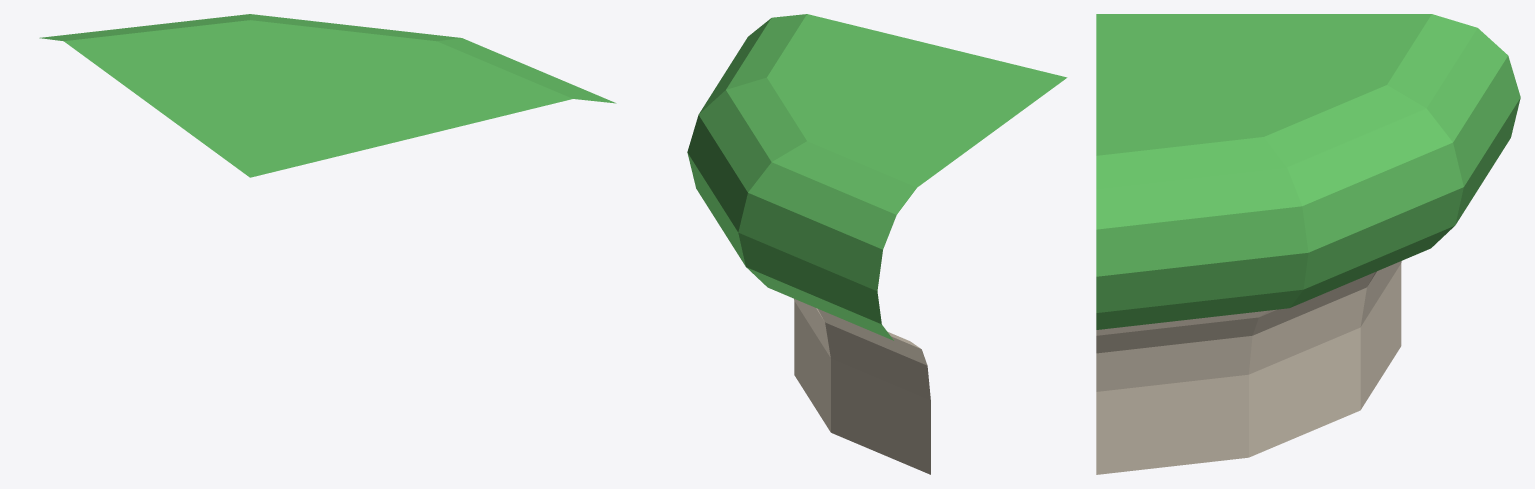
File: Escarpment_Terrain_Corner_Outer_2x2_Top.glb
3 views of the same model, side by side, from view 1: azimuth 30°, elevation 25°; view 2: azimuth 150°, elevation 25°; view 3: azimuth 270°, elevation 25° (orthographic). The views are drawn at different scales.
Parts seen in each view (by area): view 1: Escarpment_Terrain_Corner_Outer_2x2_Top; view 2: Escarpment_Terrain_Corner_Outer_2x2_Top; view 3: Escarpment_Terrain_Corner_Outer_2x2_Top.
Part boxes in pixels (bbox=[...]): Escarpment_Terrain_Corner_Outer_2x2_Top: bbox=[39, 14, 616, 177]; Escarpment_Terrain_Corner_Outer_2x2_Top: bbox=[687, 14, 1067, 474]; Escarpment_Terrain_Corner_Outer_2x2_Top: bbox=[1096, 14, 1520, 474].
Size of the model in its own units: 1.39 by 1.2 by 1.39.
